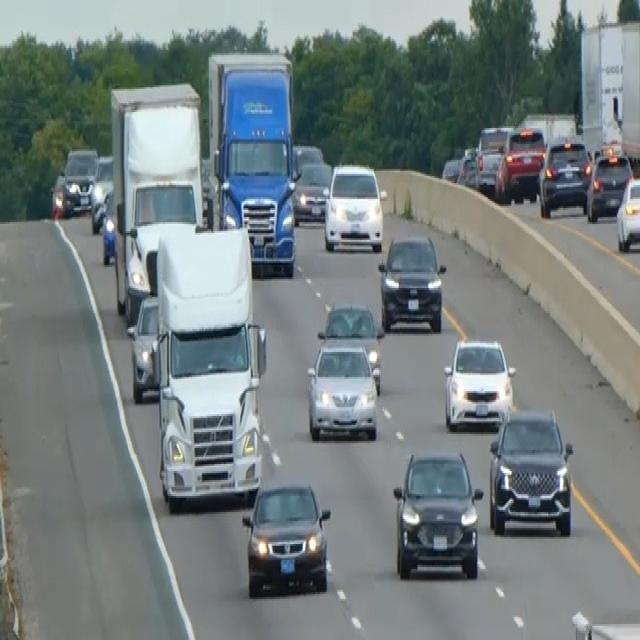car: (392, 446, 483, 580), (487, 405, 574, 537), (241, 480, 331, 597), (306, 336, 378, 441), (377, 231, 446, 333), (443, 334, 516, 430), (317, 299, 383, 393), (323, 160, 385, 252), (538, 135, 591, 217), (494, 126, 545, 203), (126, 293, 160, 402), (586, 150, 633, 222), (474, 123, 512, 192), (292, 160, 332, 222), (61, 146, 97, 213), (89, 153, 113, 231), (615, 175, 639, 252), (292, 140, 324, 170), (50, 170, 69, 218), (456, 148, 477, 188), (440, 155, 461, 181)
lorry: (152, 222, 268, 510), (108, 78, 207, 324), (205, 48, 301, 277)
